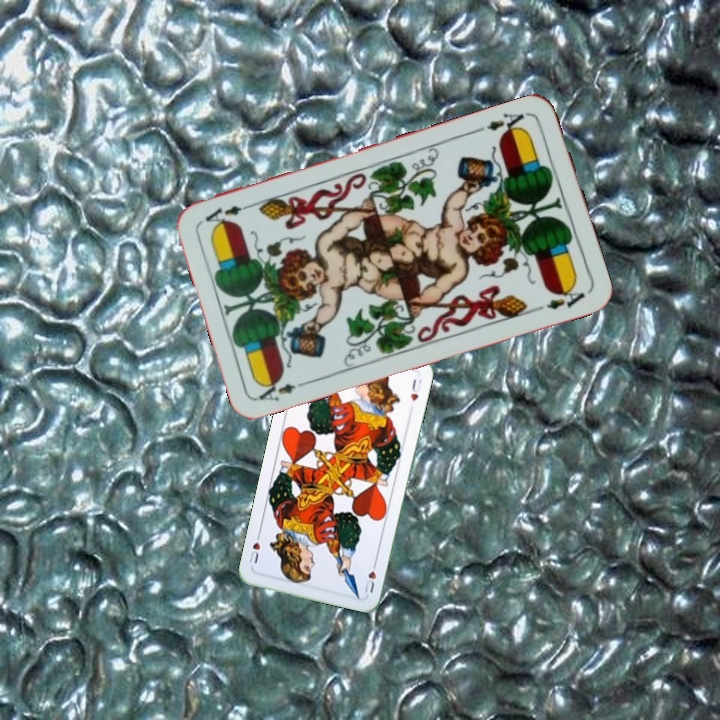EA: (254, 375, 312, 404), (483, 108, 532, 139)
HU: (361, 557, 380, 595)
